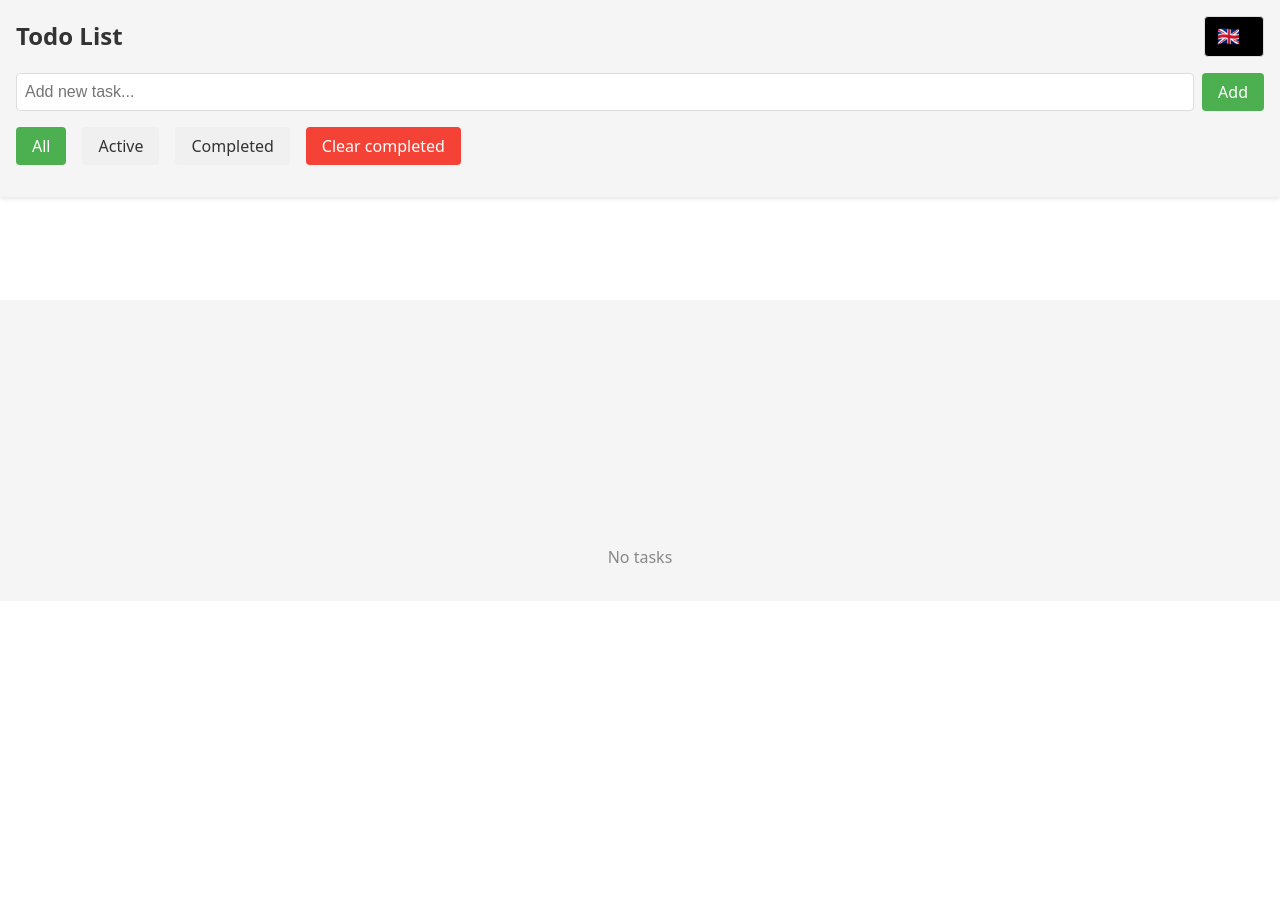
Test: TodoList › clears completed todos when clear button is clicked
The width and height of the screenshot is (1280, 900).
Добавляем активную задачу
Type "Active Todo" into the field with placeholder "Add new task...". click: x=605, y=92
box: left=16, top=73, right=1194, bottom=111
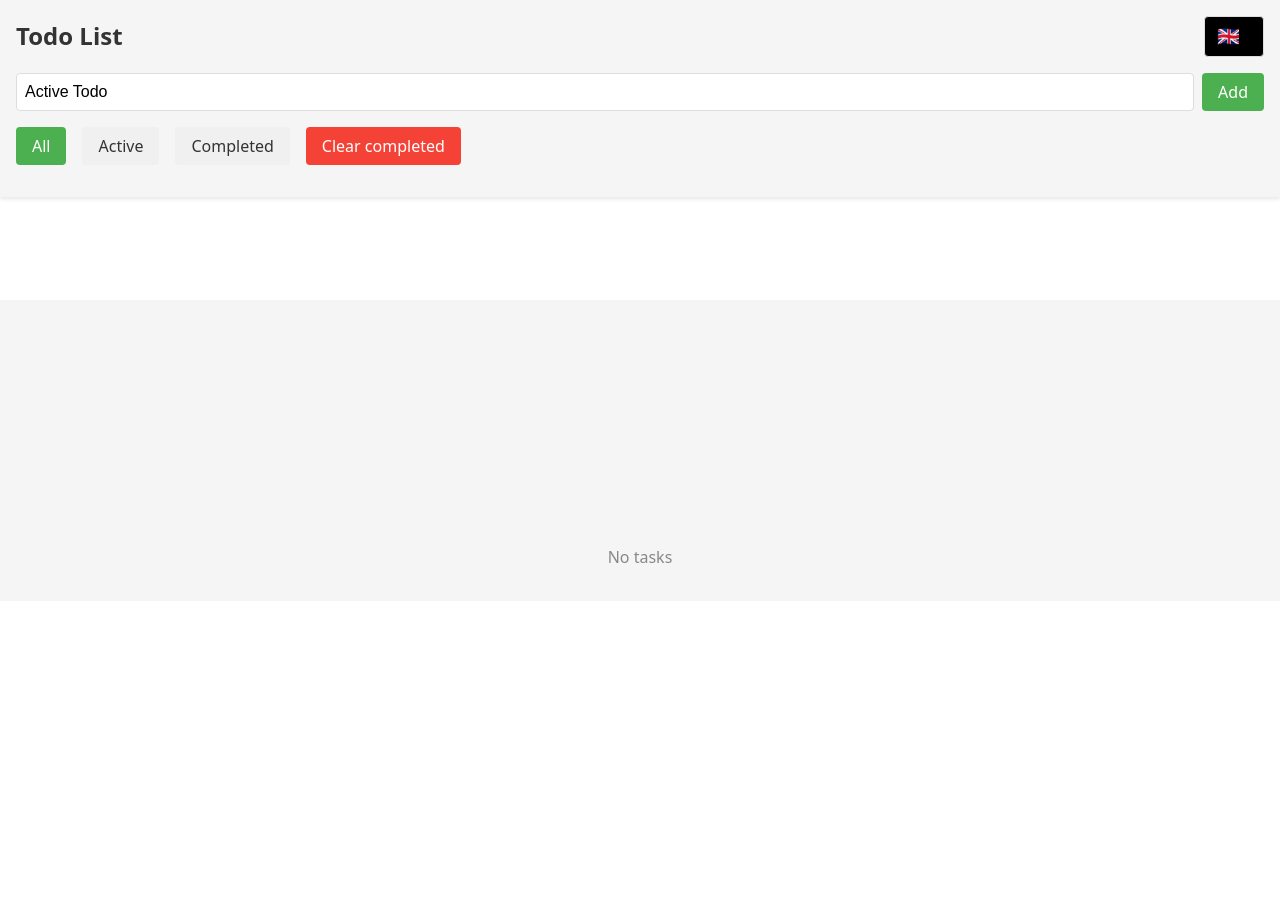
Click the button "Add". click: x=1233, y=92
box: left=1202, top=73, right=1264, bottom=111
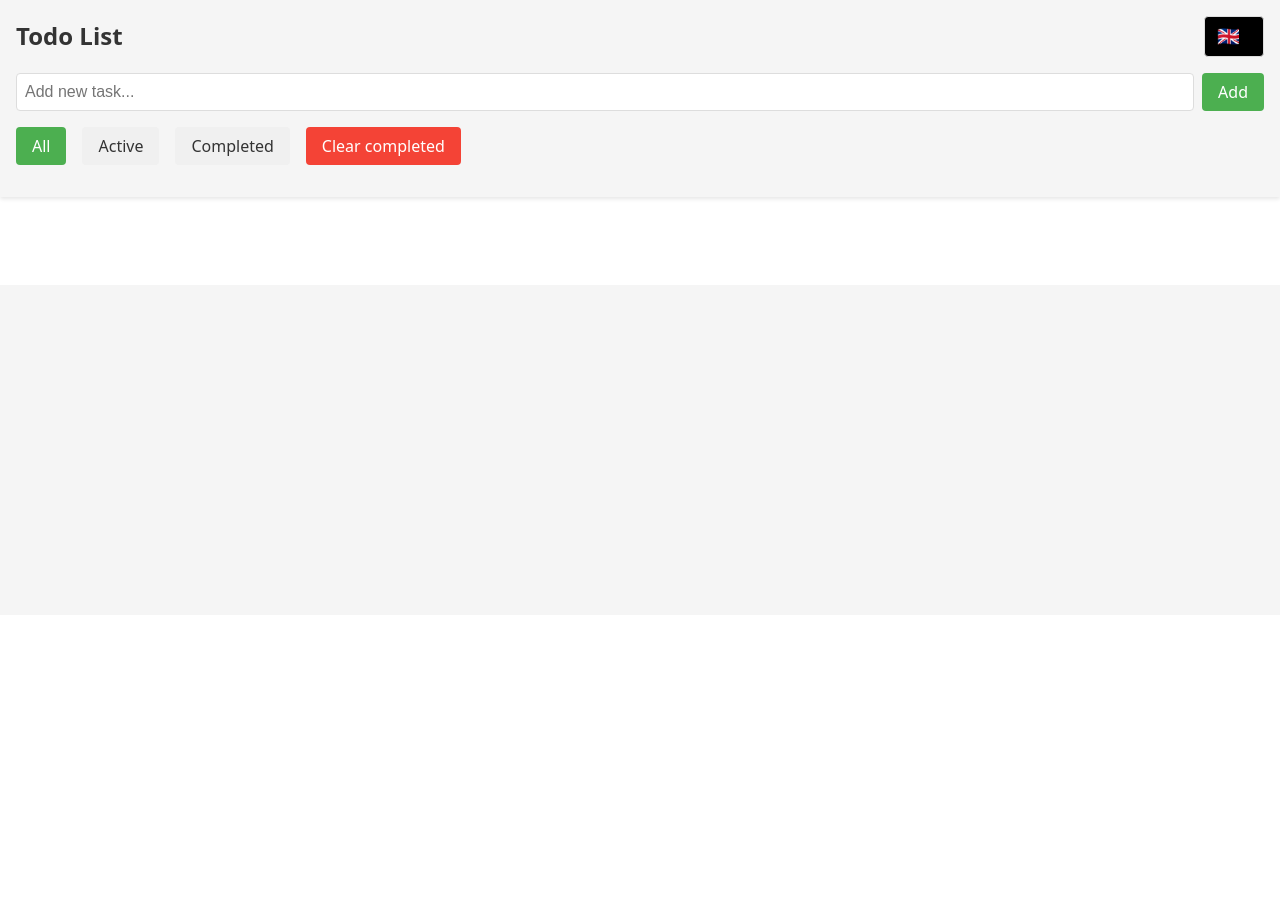
Добавляем выполненную задачу
Type "Completed Todo" into the field with placeholder "Add new task...". click: x=605, y=92
box: left=16, top=73, right=1194, bottom=111
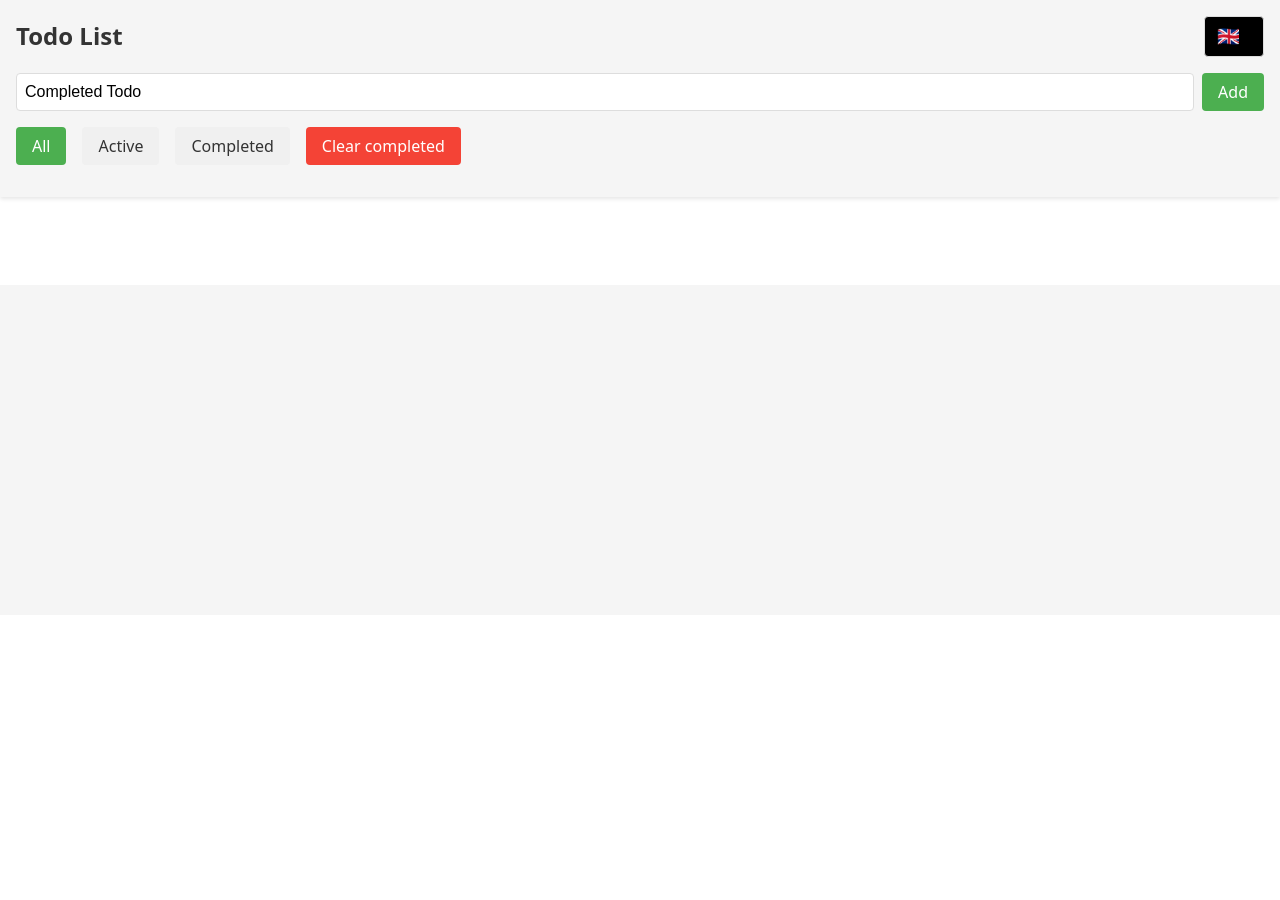
Click the button "Add". click: x=1233, y=92
box: left=1202, top=73, right=1264, bottom=111
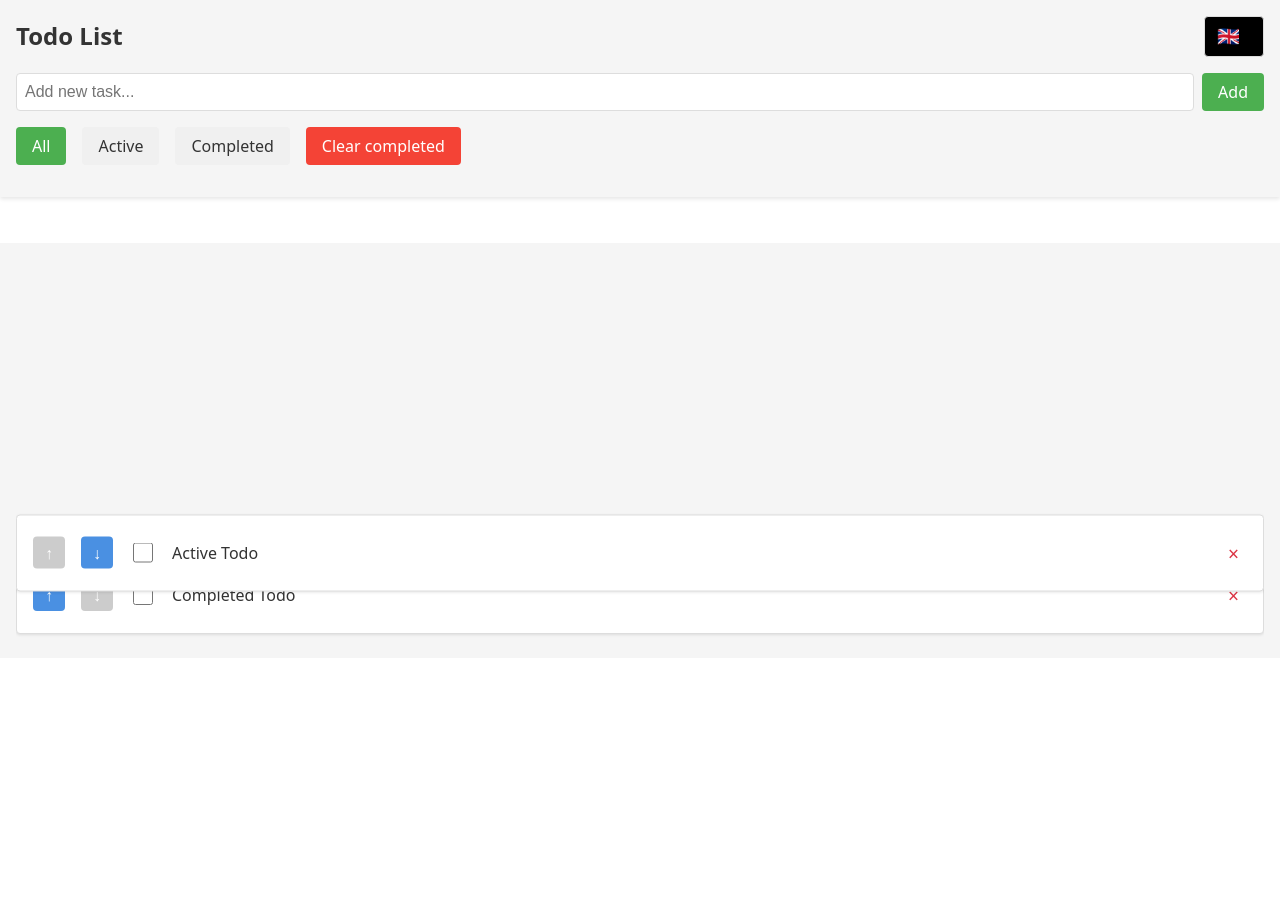
Находим и кликаем по чекбоксу второй задачи
Click the checkbox next to "Completed Todo". click: x=143, y=595
box: left=133, top=585, right=153, bottom=605
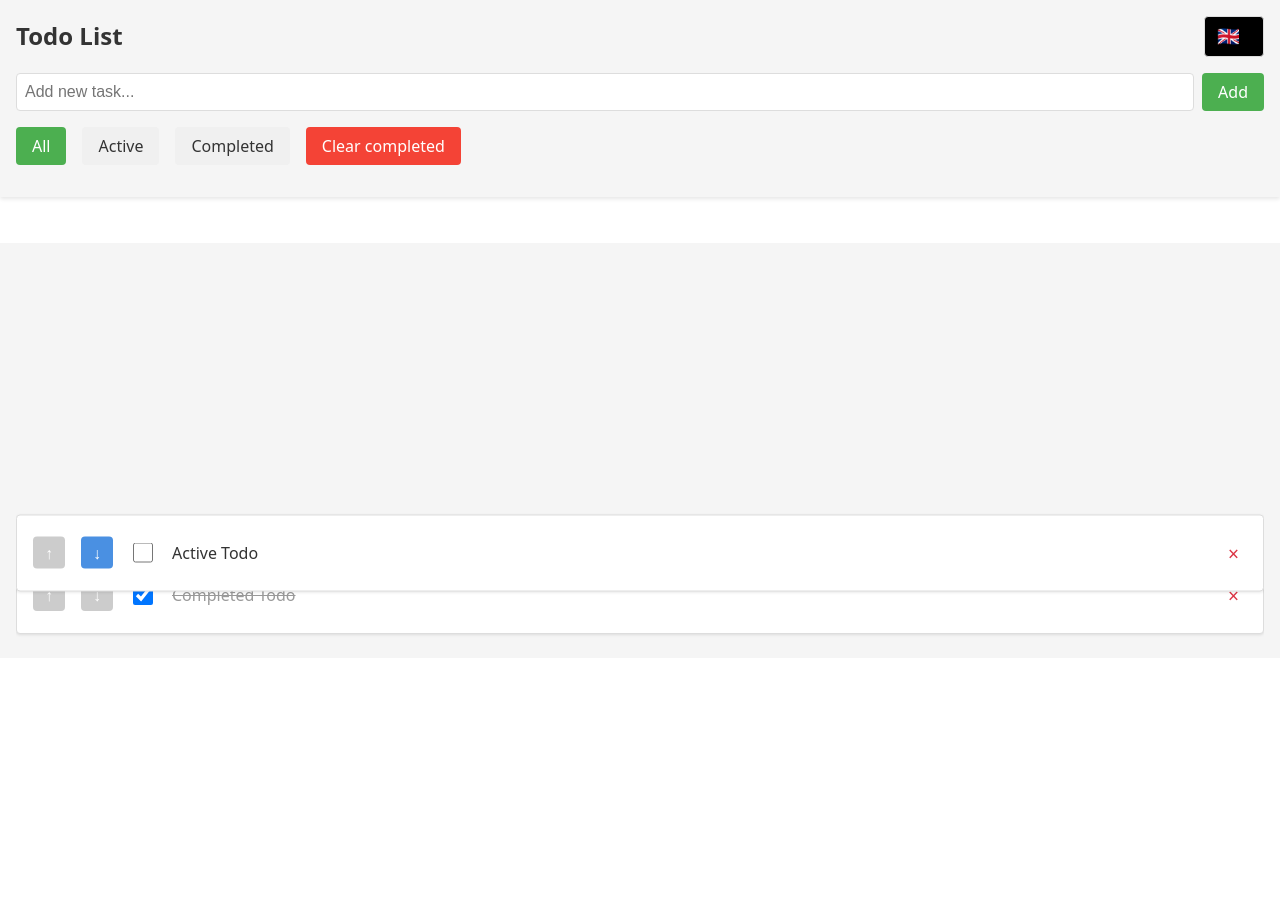
Нажимаем кнопку очистки
Click the button "Clear completed". click: x=383, y=146
box: left=306, top=127, right=461, bottom=165
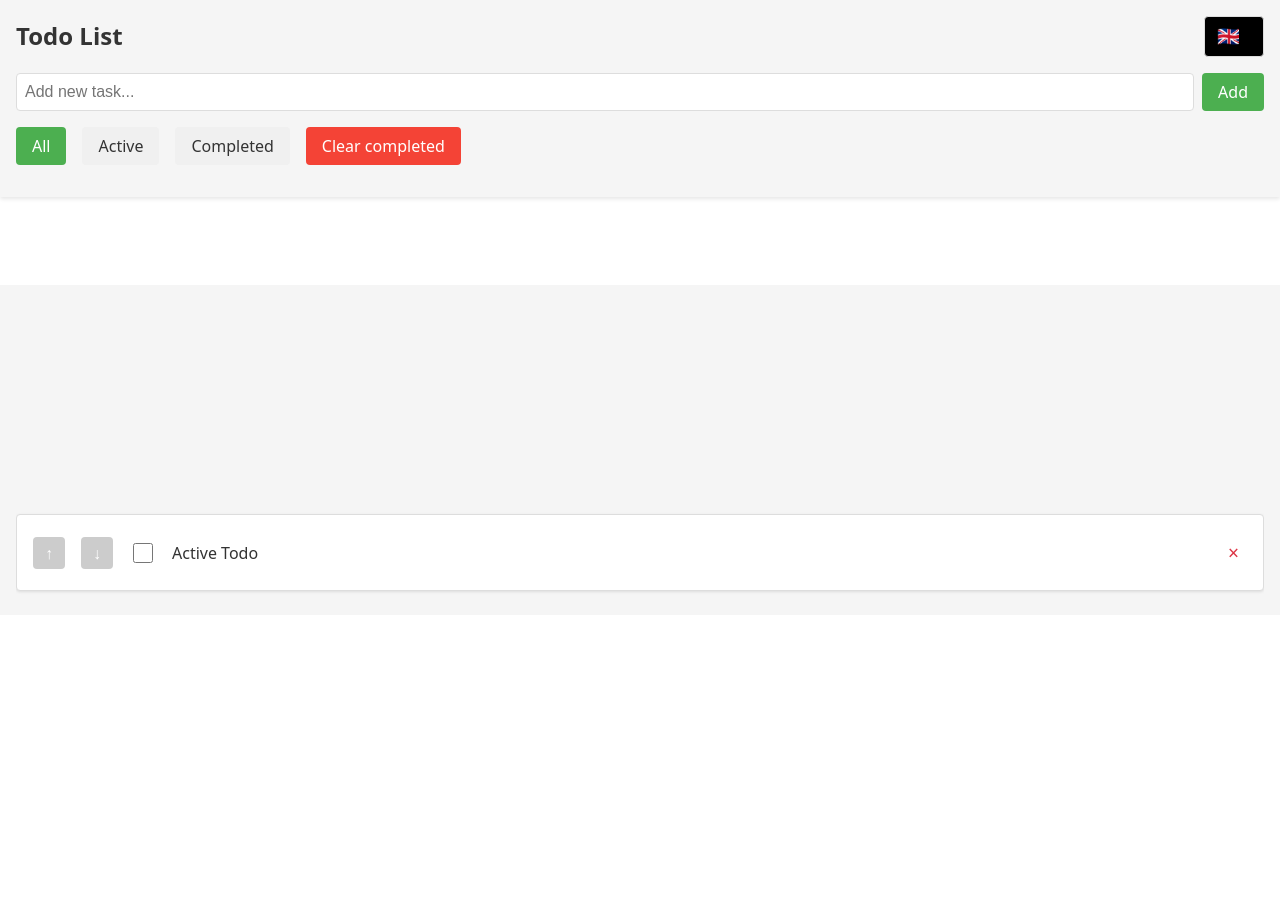
expect the text "Active Todo" is shown: met, box left=172, top=542, right=258, bottom=564
expect the text "Completed Todo" is gone: met
